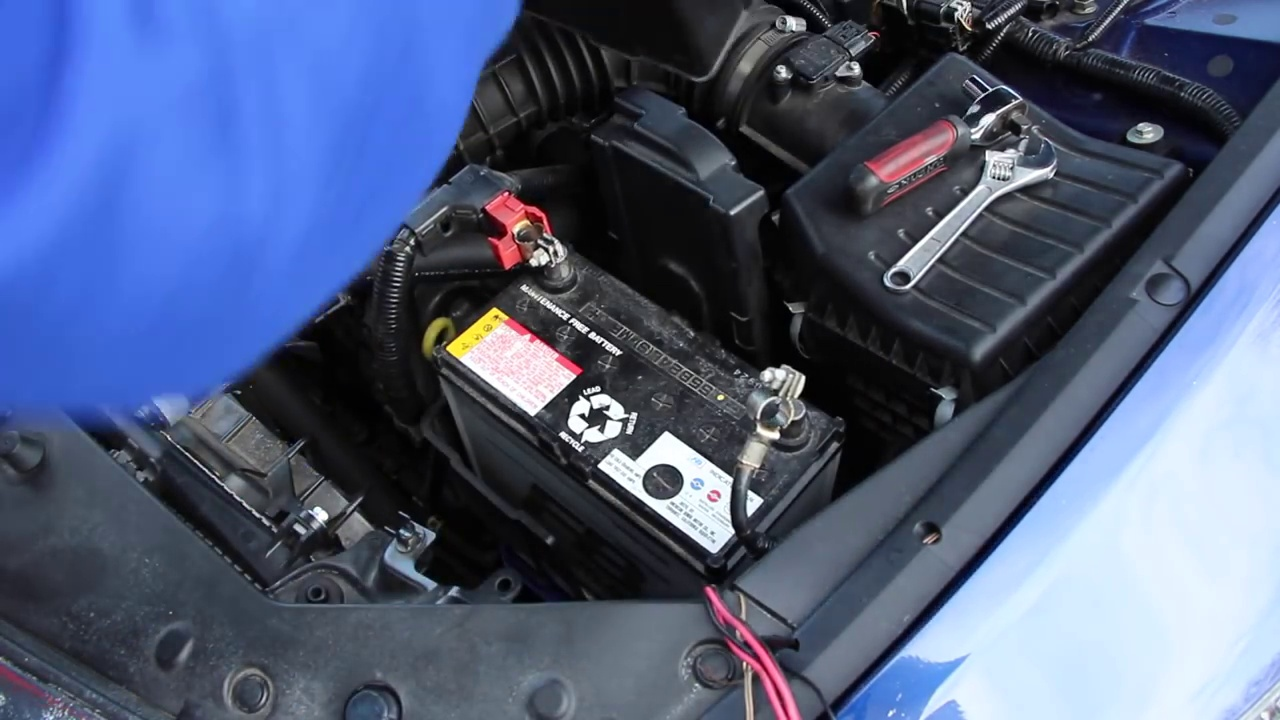battery: (438, 229, 844, 595)
neg_disconnected: (730, 341, 837, 474)
pos_connected: (430, 175, 590, 290)
